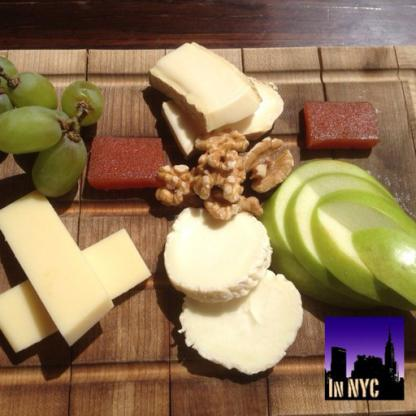mozarella cheese: (178, 270, 300, 379), (168, 206, 270, 304)
